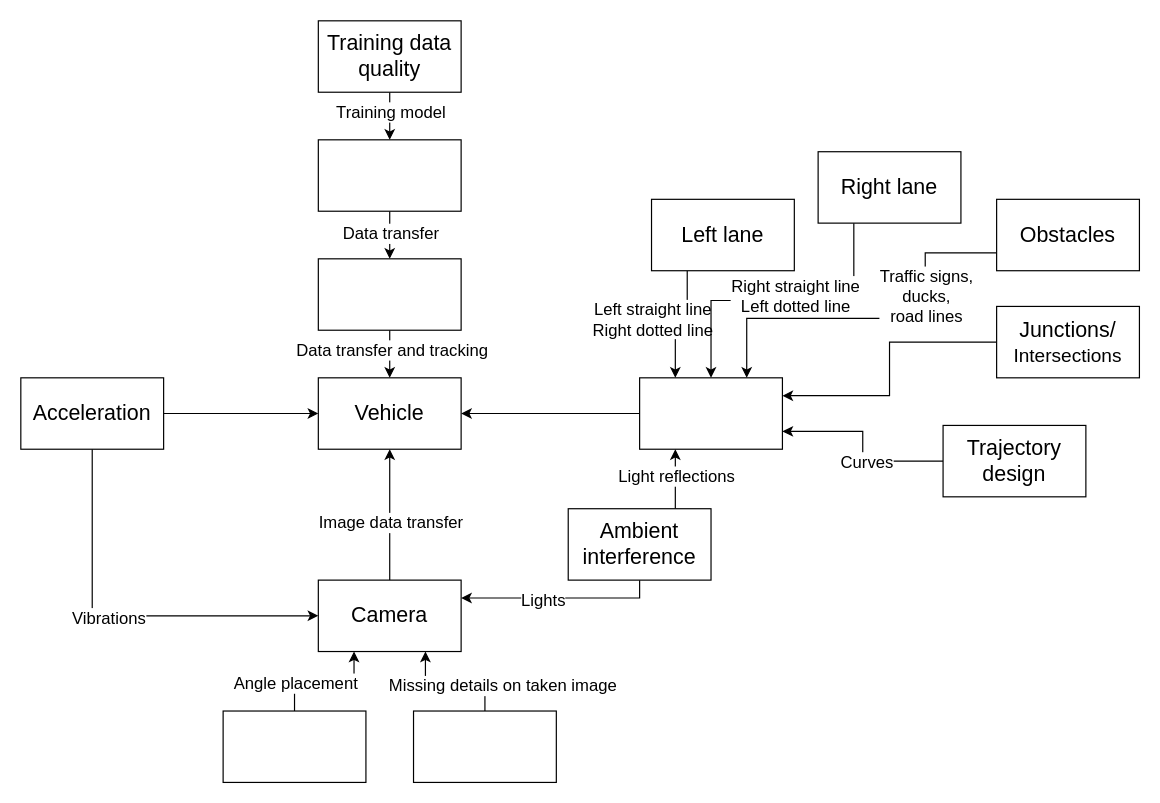
This 1160x803 diagram has some shape labels left out. Each missing label, with the box of its shape:
Camera placement: (222, 710, 366, 782)
Cloud: (317, 258, 461, 330)
Machine Learning Model: (317, 139, 461, 211)
Road: (638, 377, 782, 449)
Sensor limitation: (412, 710, 556, 782)
